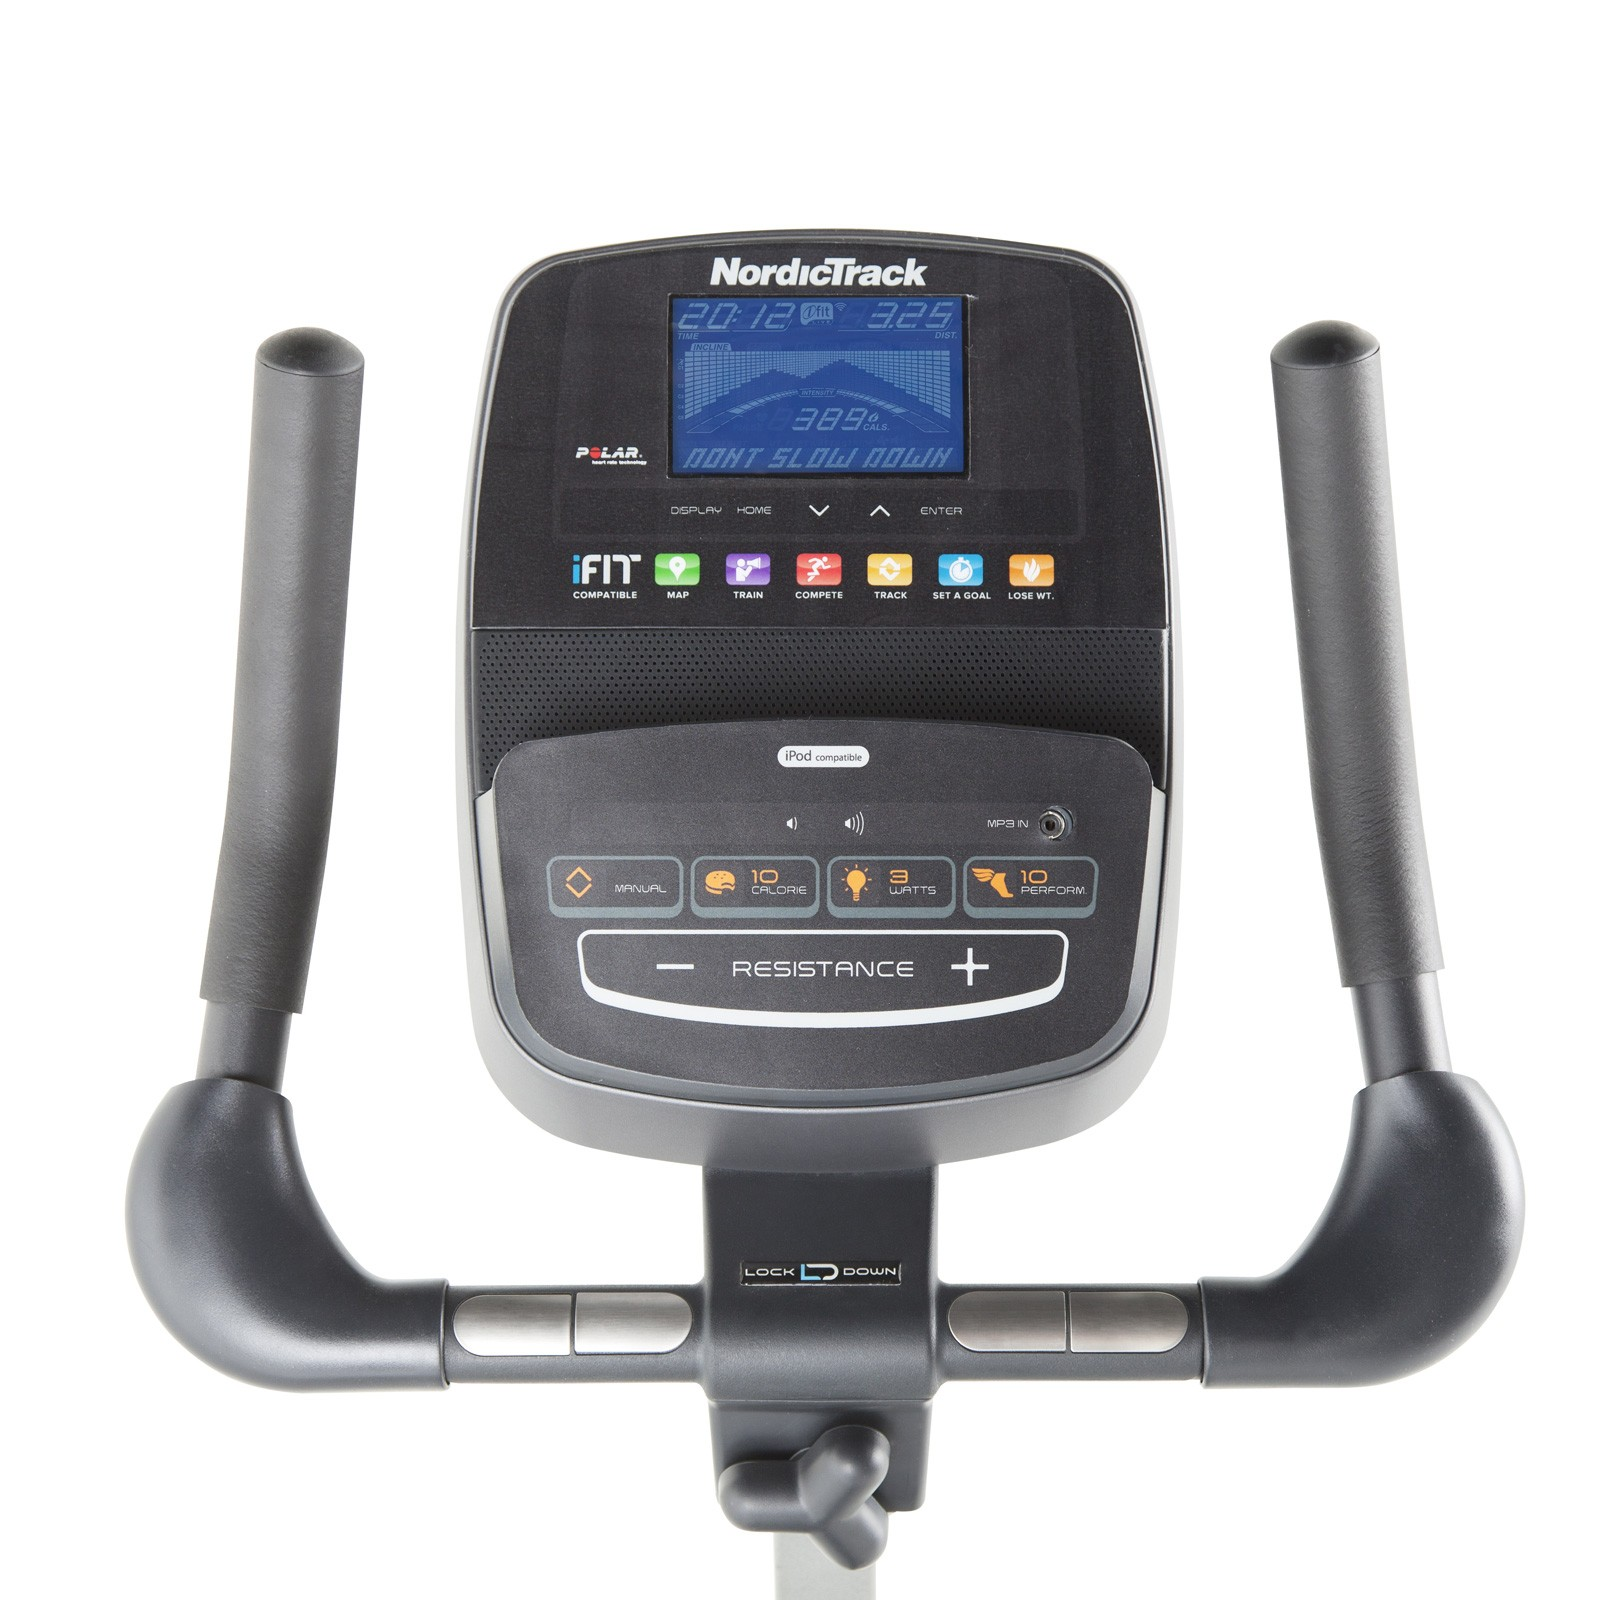gym_bike: (82, 177, 1530, 1582)
